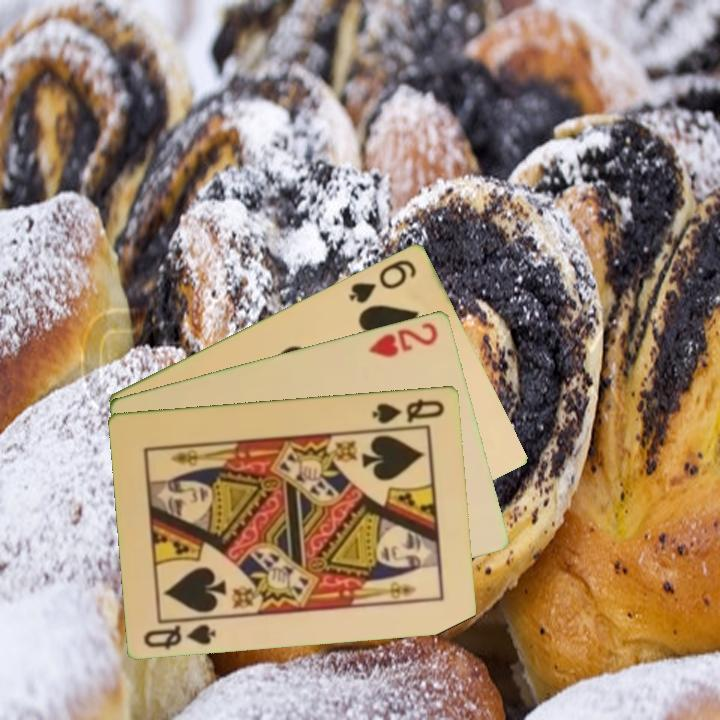2h: (365, 318, 441, 360)
6s: (345, 255, 420, 306)
Qs: (369, 394, 448, 427), (140, 620, 220, 652)
